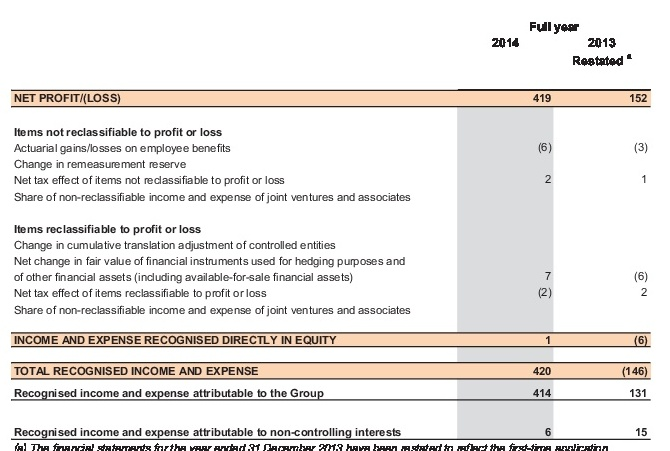table: (0, 0, 670, 451)
